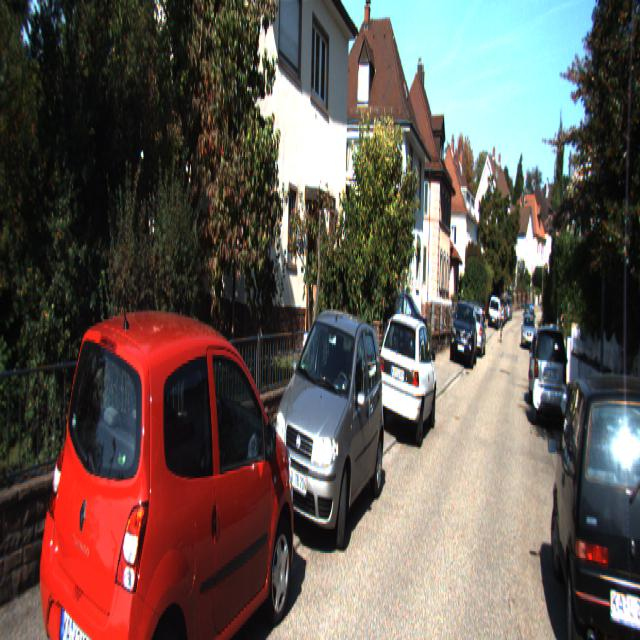Car: (40, 314, 300, 638), (268, 305, 390, 576), (550, 357, 640, 638), (377, 309, 439, 447), (531, 321, 570, 433), (448, 301, 479, 370)
